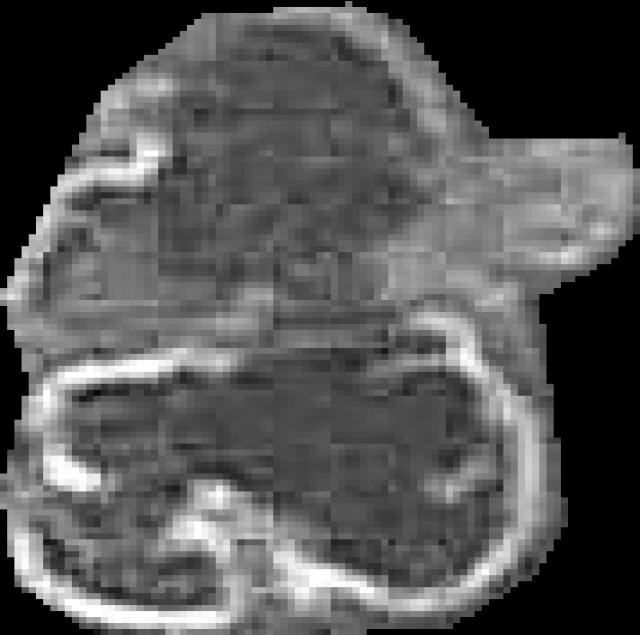tumor_good_chance: (0, 1, 640, 635)
